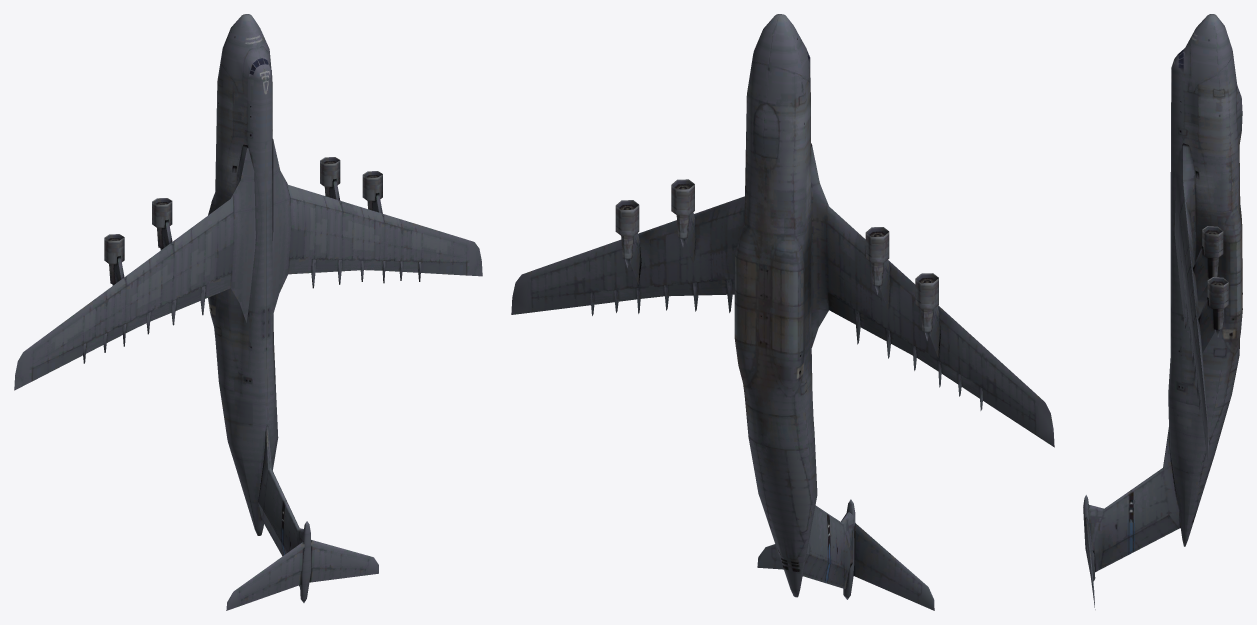
Rendered from C-5_Galaxy.obj.
3 renders of one model, left to right at view 1: azimuth 30°, elevation 25°; view 2: azimuth 150°, elevation 25°; view 3: azimuth 270°, elevation 25°, orthographic. The views are drawn at different scales.
Visible parts, largest first — view 1: LOD0; view 2: LOD0; view 3: LOD0.
Boxes of the visible parts, x1=… form: LOD0: x1=14, y1=14, x2=482, y2=610; LOD0: x1=511, y1=14, x2=1054, y2=610; LOD0: x1=1083, y1=14, x2=1242, y2=609.
Bounding box in the file's own units: 67.27 × 75.09 × 19.12.
